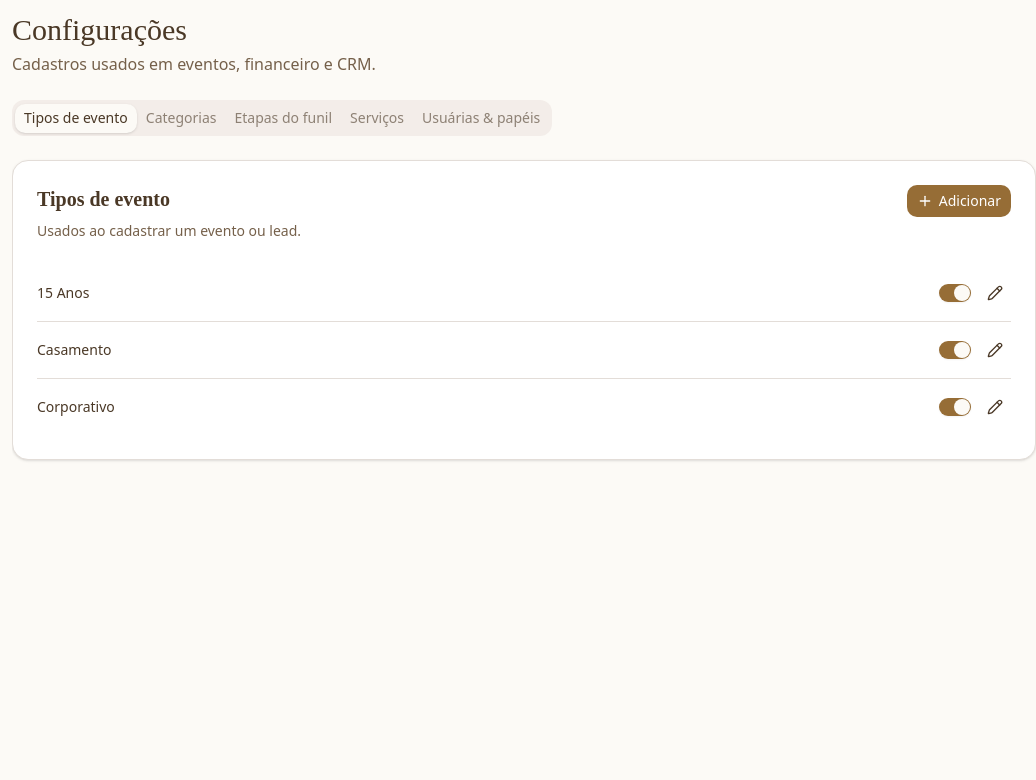
Test: ConfiguracoesPage › switching off a stage that still holds a lead is refused (guard toast, stage stays active)
O painel de Etapas só monta quando a aba fica ativa (Radix desmonta as inativas).
What coordinates should you click on to do the following:
click the tab "Etapas do funil"
I would click on:
 (283, 118)
Its box is [226,104,341,132].
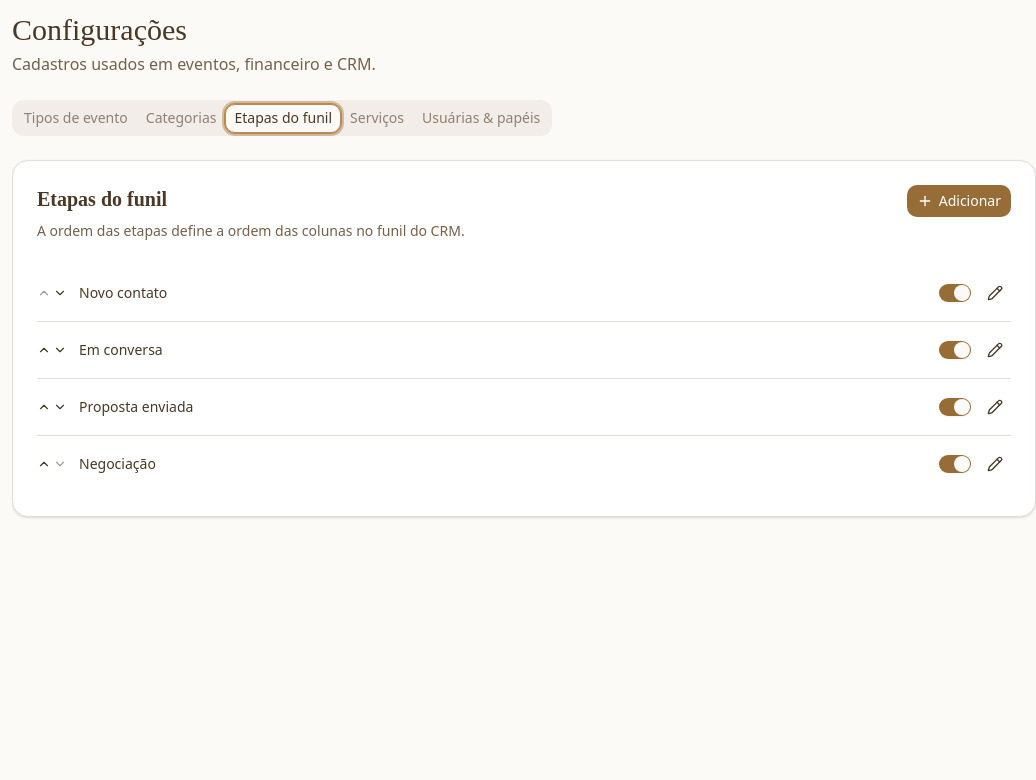
What coordinates should you click on to do the following:
click the switch named "Inativar Novo contato"
I would click on:
 (955, 293)
Its box is [939,284,971,302].
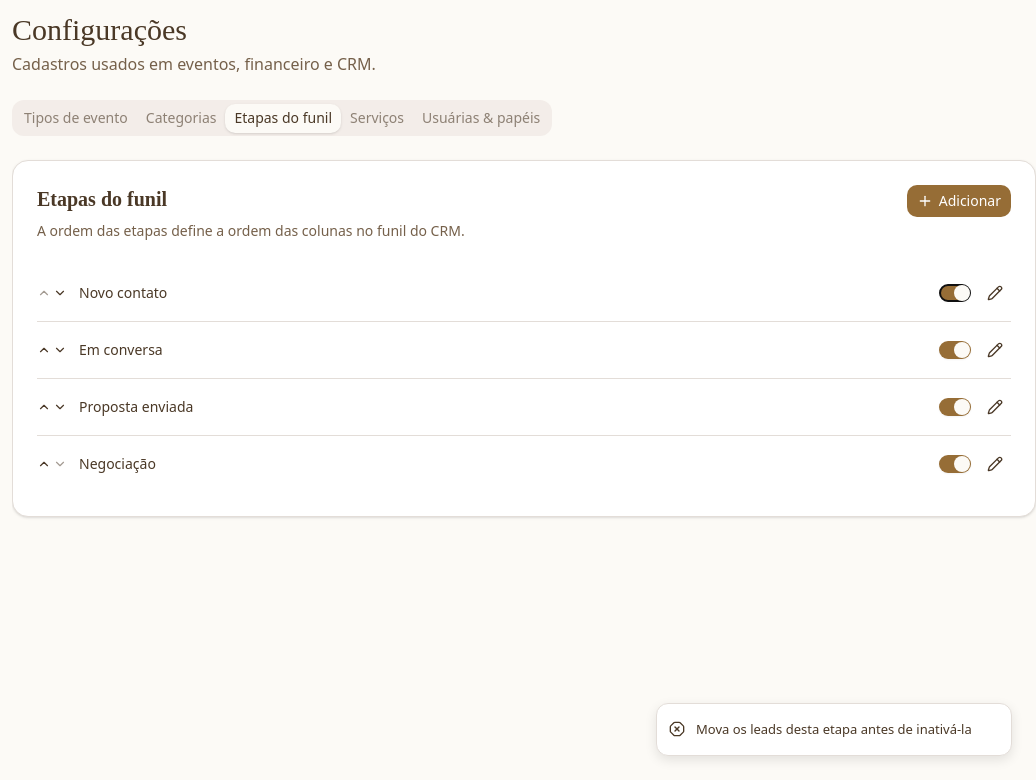
Expected: the text "Mova os leads desta etapa antes de inativá-la" is shown, [696,720,972,739]
